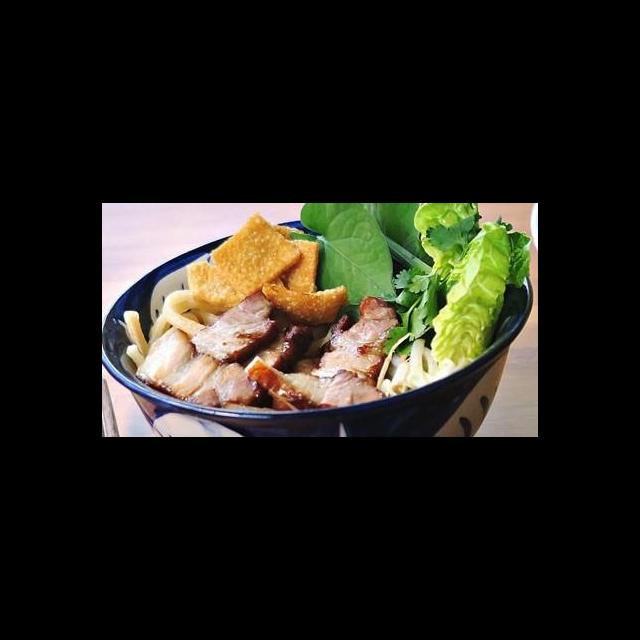banh da: (186, 211, 304, 311), (256, 221, 323, 302), (257, 279, 349, 329)
mi: (121, 286, 225, 370), (375, 331, 480, 404)
mi quang: (104, 223, 532, 437)
thit heo: (133, 324, 263, 412), (306, 293, 406, 391), (242, 352, 391, 413), (228, 316, 314, 405), (185, 286, 278, 368)
